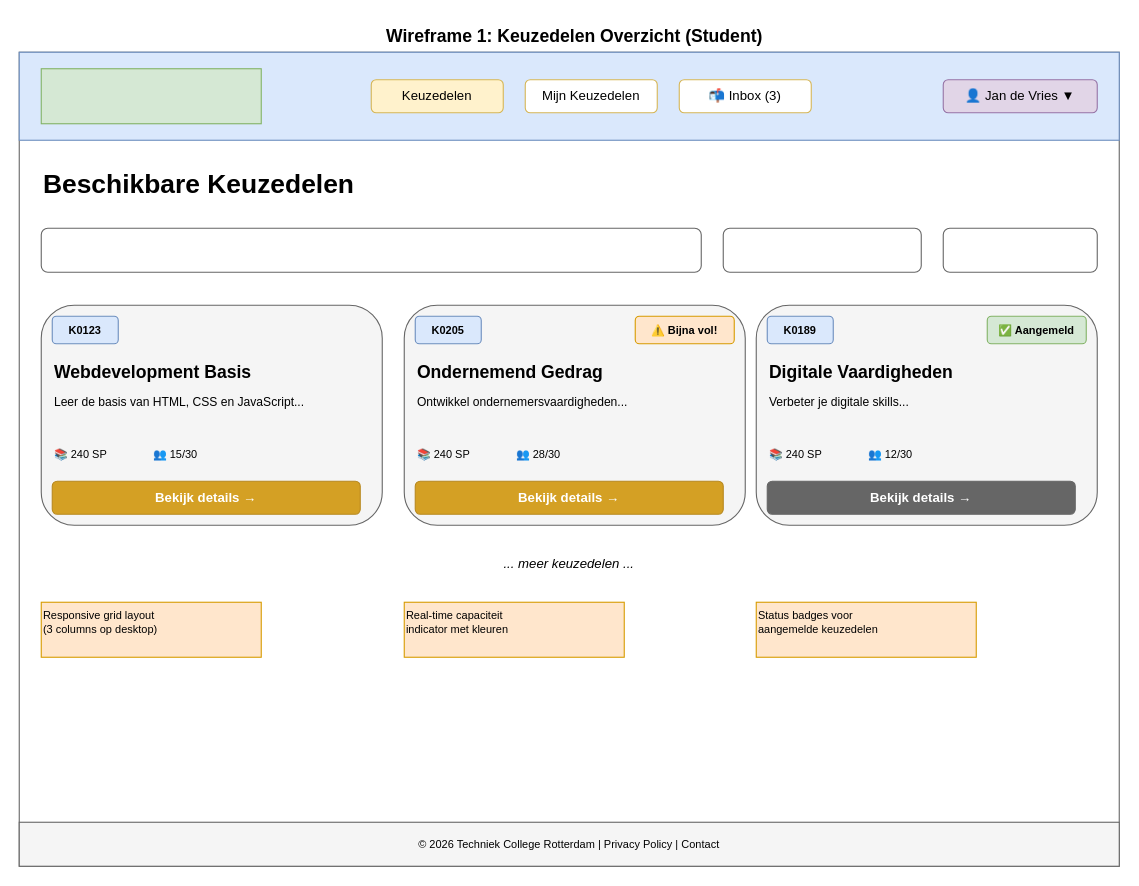
This 1139x886 diagram has some shape labels left out. Here are the shapes that lost their labels. From the top down, the centre of each, then its label:
At (150,96): "🎓 TCR Keuzedelen".
At (370,249): "🔍 Zoek keuzedelen...".
At (821,249): "Filter: Alle niveaus ▼".
At (1019,249): "Sorteer: Naam ▼".
